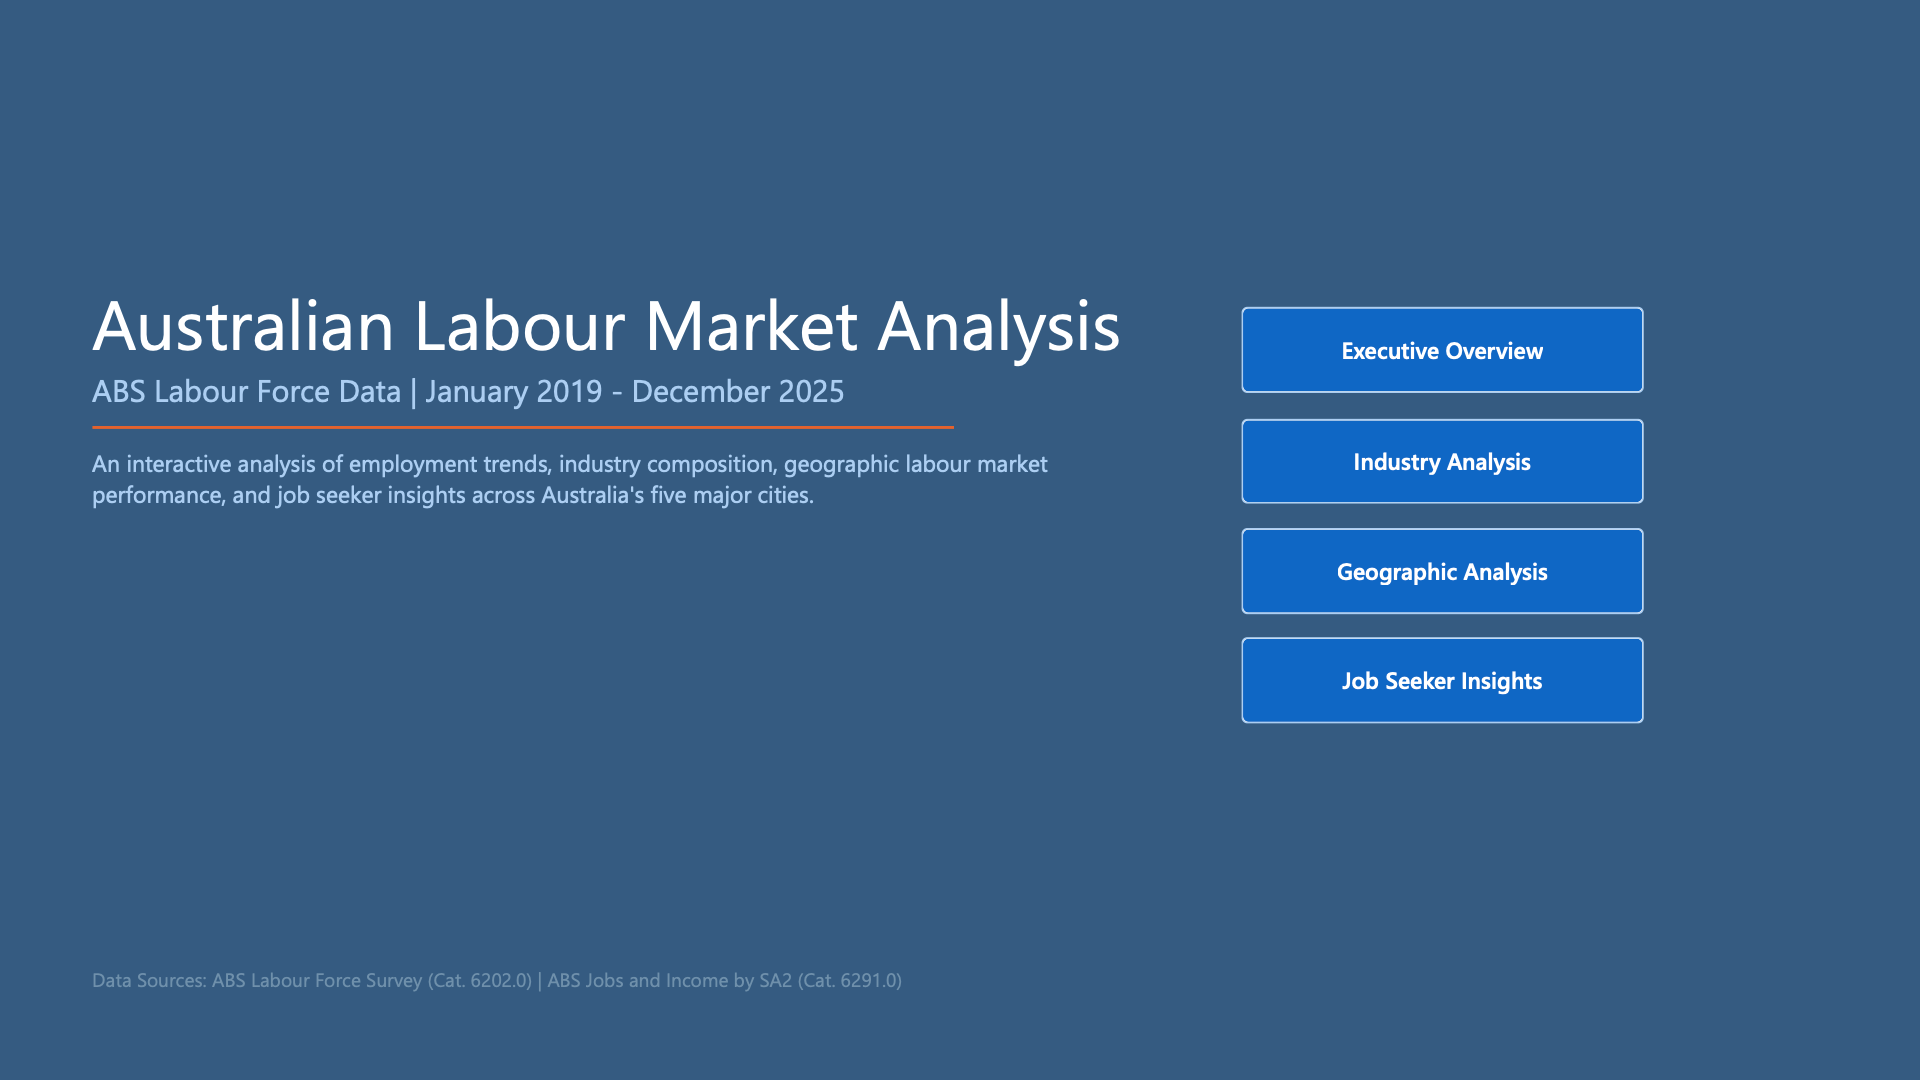

This screenshot's page, from the dashboard's own definition file:
{"tool":"powerbi","page":{"name":"Cover","canvas":[1366,768],"ordinal":0},"visuals":[{"type":"textbox","box":[80.4,200.1,799.6,68],"z":0},{"type":"textbox","box":[80.4,265.3,700,33.5],"z":1000},{"type":"shape","box":[80.4,300,600,12.4],"z":2000},{"type":"textbox","box":[80.4,319.8,700,48.8],"z":3000},{"type":"textbox","box":[80.4,680,799.6,28.7],"z":4000},{"type":"actionButton","box":[880,452,279.6,60.3],"z":5000},{"type":"actionButton","box":[880,376.3,279.6,59.4],"z":6000},{"type":"actionButton","box":[880,299.7,279.6,59.4],"z":7000},{"type":"actionButton","box":[880,222.2,279.6,60.3],"z":8000}]}

Visuals, with their boxes in screenshot pixels (x1, y1, x2, y2), scaled from the page's 1366x768 canvas onto the 1920x1080 screenshot:
textbox: 113,281,1237,377
textbox: 113,373,1097,420
shape: 113,422,956,439
textbox: 113,450,1097,518
textbox: 113,956,1237,997
actionButton: 1237,636,1630,720
actionButton: 1237,529,1630,613
actionButton: 1237,421,1630,505
actionButton: 1237,312,1630,397
